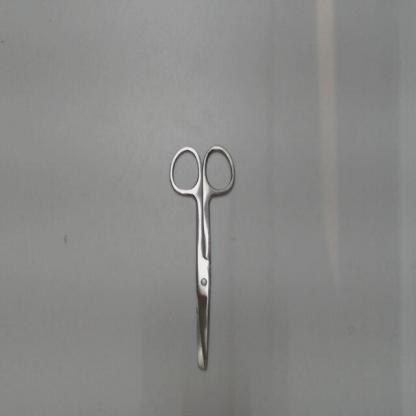Dressing Scissors: (160, 135, 244, 386)
